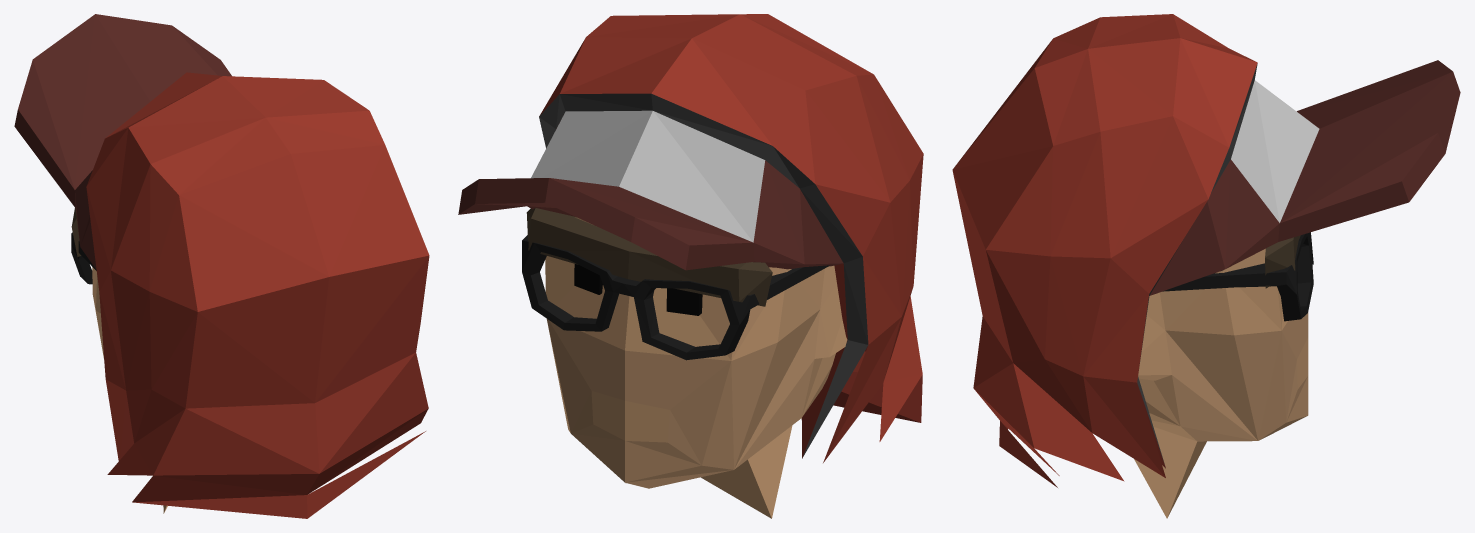
File: Son_01_Head_0_01_B.obj
3 renders of one model, left to right at view 1: azimuth 30°, elevation 25°; view 2: azimuth 150°, elevation 25°; view 3: azimuth 270°, elevation 25°, orthographic. The views are drawn at different scales.
Visible parts, largest first — view 1: Son_01_Head_0_01_B; view 2: Son_01_Head_0_01_B; view 3: Son_01_Head_0_01_B.
Boxes of the visible parts, x1,y1,x2,y2 form: Son_01_Head_0_01_B: (14, 14, 429, 518); Son_01_Head_0_01_B: (458, 14, 923, 518); Son_01_Head_0_01_B: (952, 14, 1460, 518).
Size of the model in its own units: 0.2947 by 0.3976 by 0.4097.
1 material, 1 textured.
